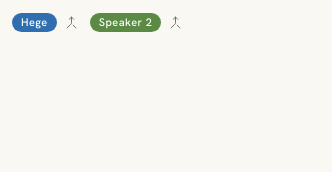
Test: SpeakerLabels cross-note rename › offers the scope choice when the label is in other notes too
Click the button "Hege".
click(34, 23)  # box [12,13,57,32]
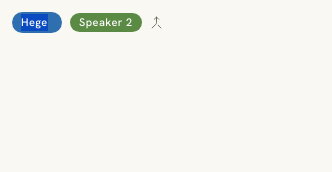
Clear the dropdown at (37, 22), box [12,12,62,33]
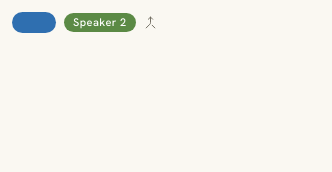
Type "Hege Tronshaugen" into the dropdown.
click(34, 22); type("Hege Tronshaugen")  # box [12,12,56,33]
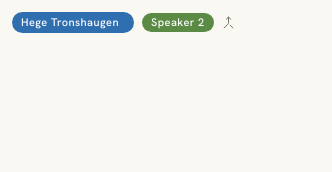
Press Enter
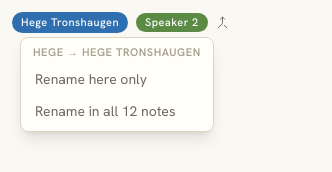
Check: the menu item "Rename here only" is shown, box [35,70,147,88]
Check: the menu item "Rename in all 12 notes" is shown, box [35,102,176,120]
